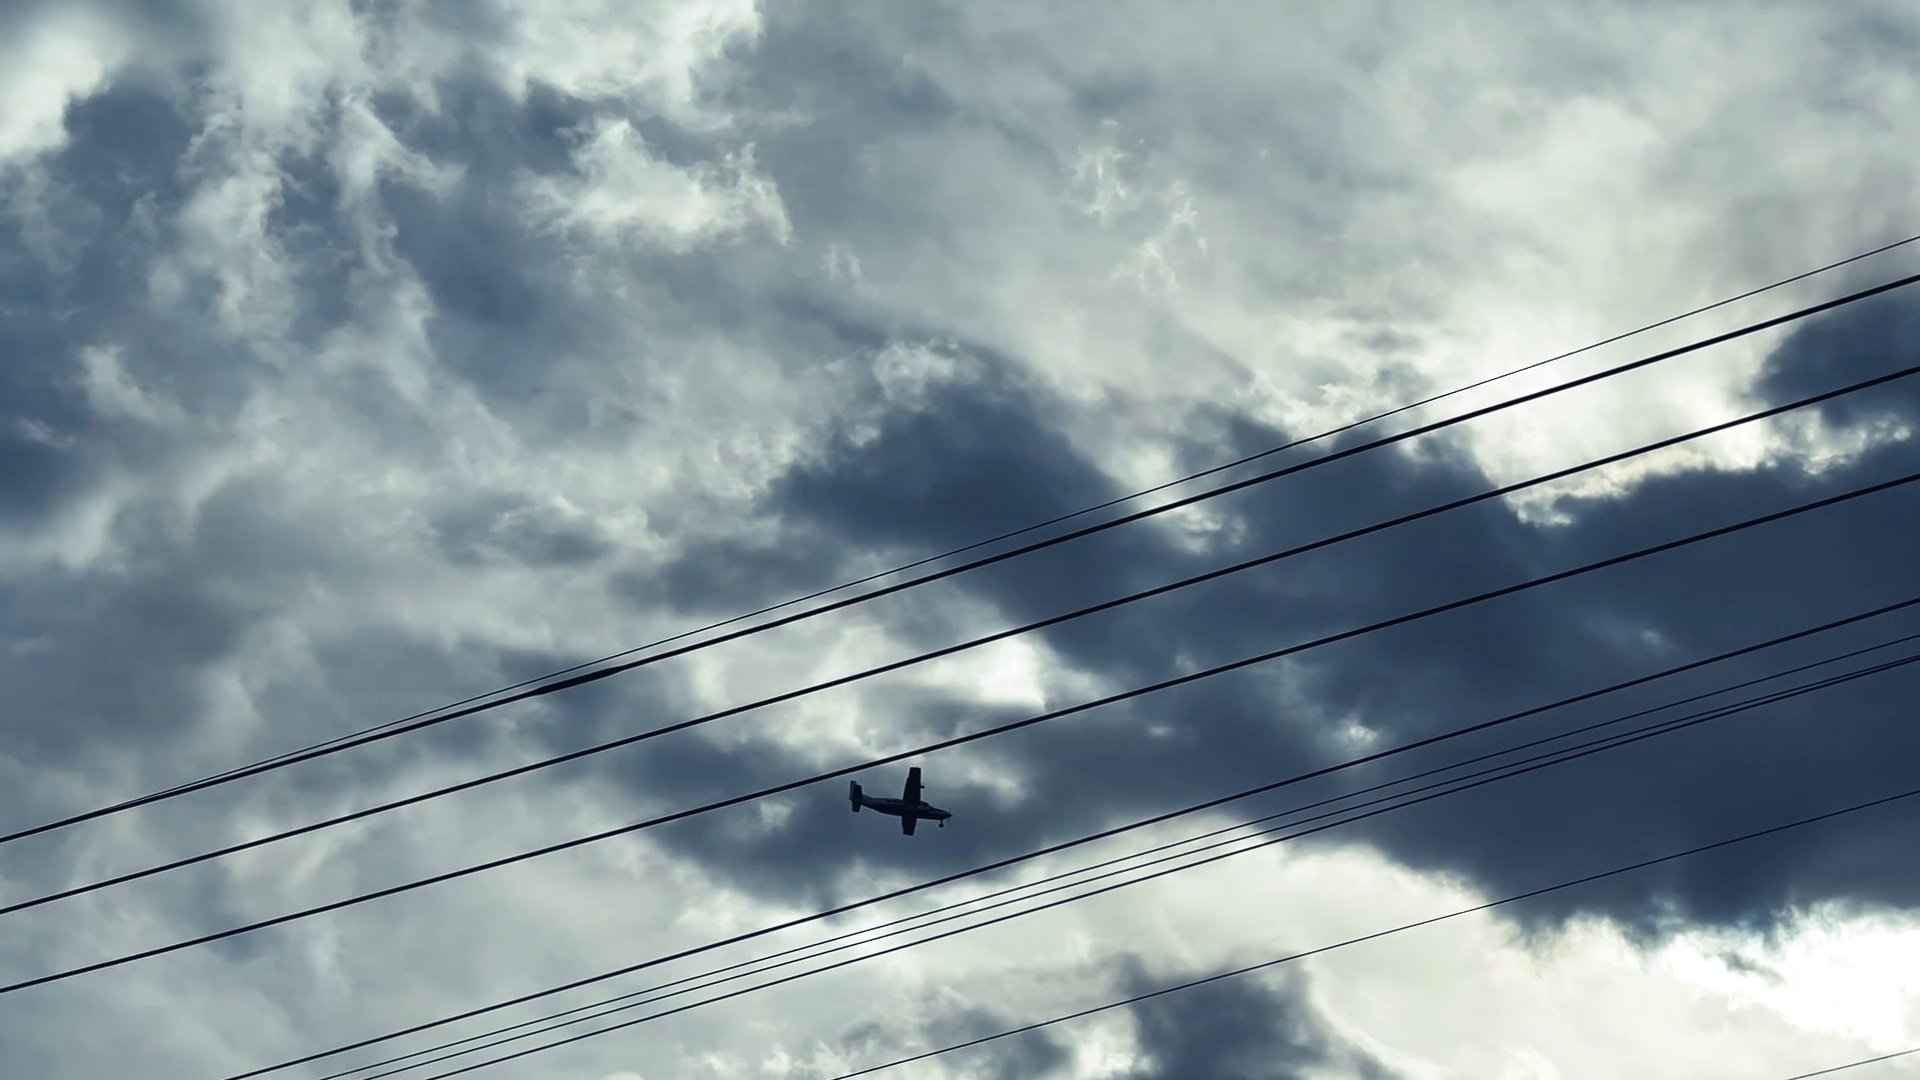plane: (847, 766, 952, 837)
